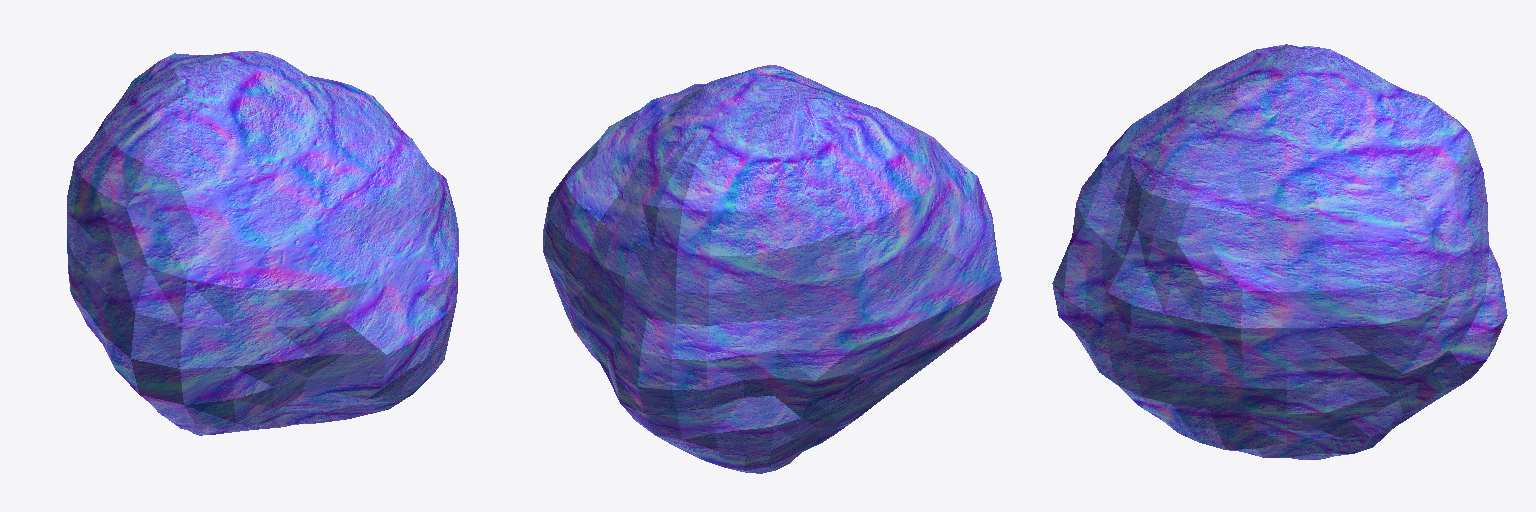
3 renders of one model, left to right at view 1: azimuth 30°, elevation 25°; view 2: azimuth 150°, elevation 25°; view 3: azimuth 270°, elevation 25°, orthographic.
Visible parts, largest first — view 1: Sphere; view 2: Sphere; view 3: Sphere.
Boxes of the visible parts, x1=… form: Sphere: x1=67, y1=51, x2=458, y2=435; Sphere: x1=543, y1=65, x2=1001, y2=473; Sphere: x1=1052, y1=44, x2=1507, y2=459.
Size of the model in its own units: 2.11 by 2.06 by 2.31.
1 materials, 1 textured.